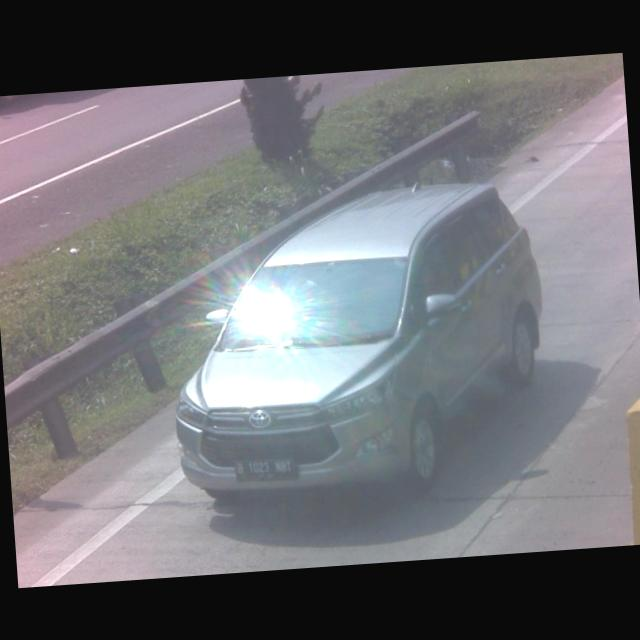plate: (232, 453, 300, 484)
